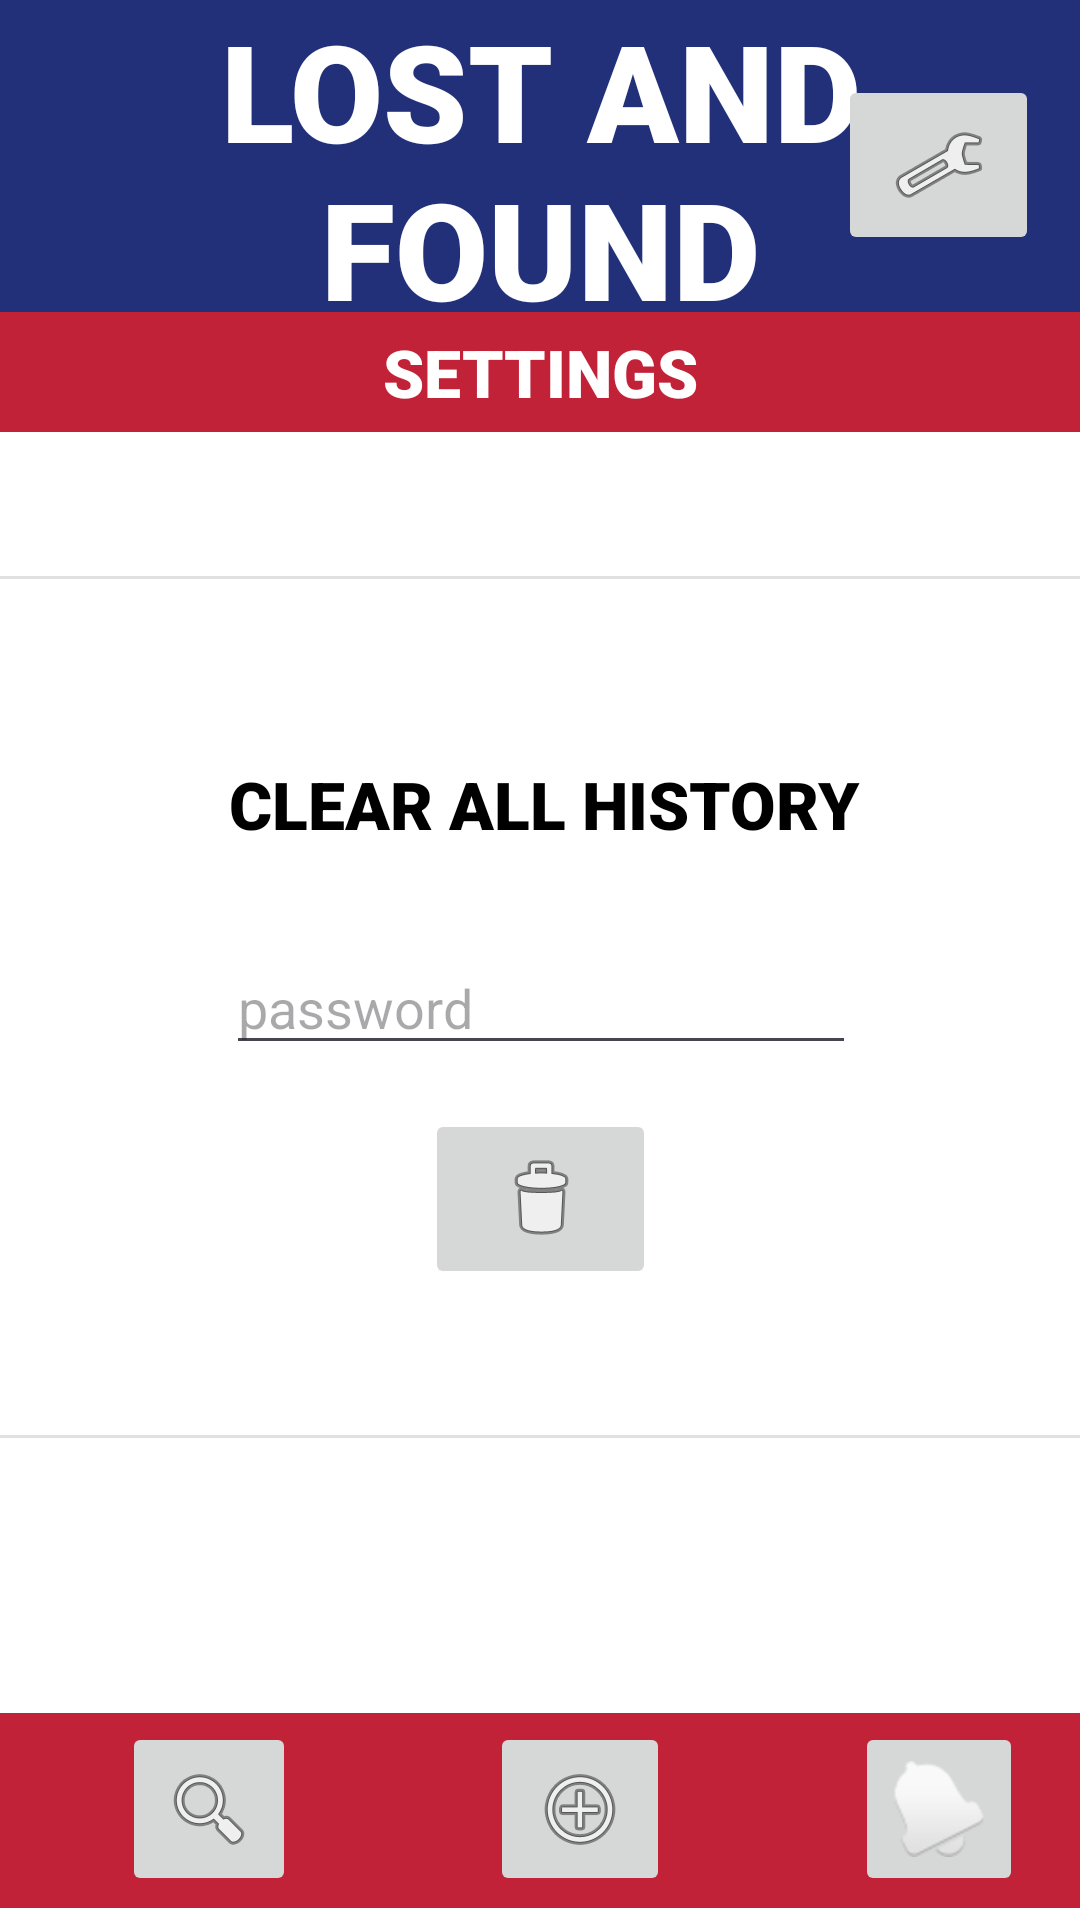

Icon bounding boxes for this 1080 × 1920 phone screenshot, format (x1, y1, x2, y2):
add: (502, 1740, 658, 1878)
delete: (437, 1127, 644, 1271)
popup reminder: (867, 1740, 1011, 1878)
preferences: (838, 75, 1027, 237)
search: (134, 1740, 284, 1878)
